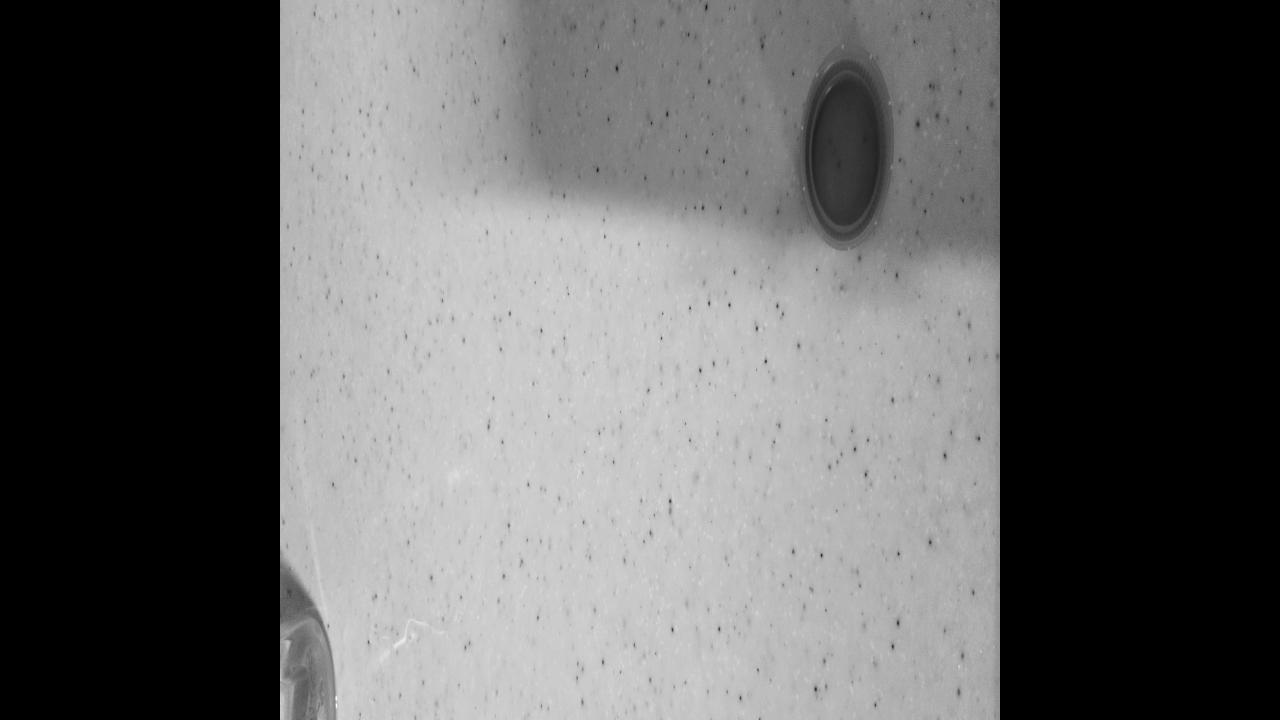bottle_cap: (799, 38, 895, 255)
